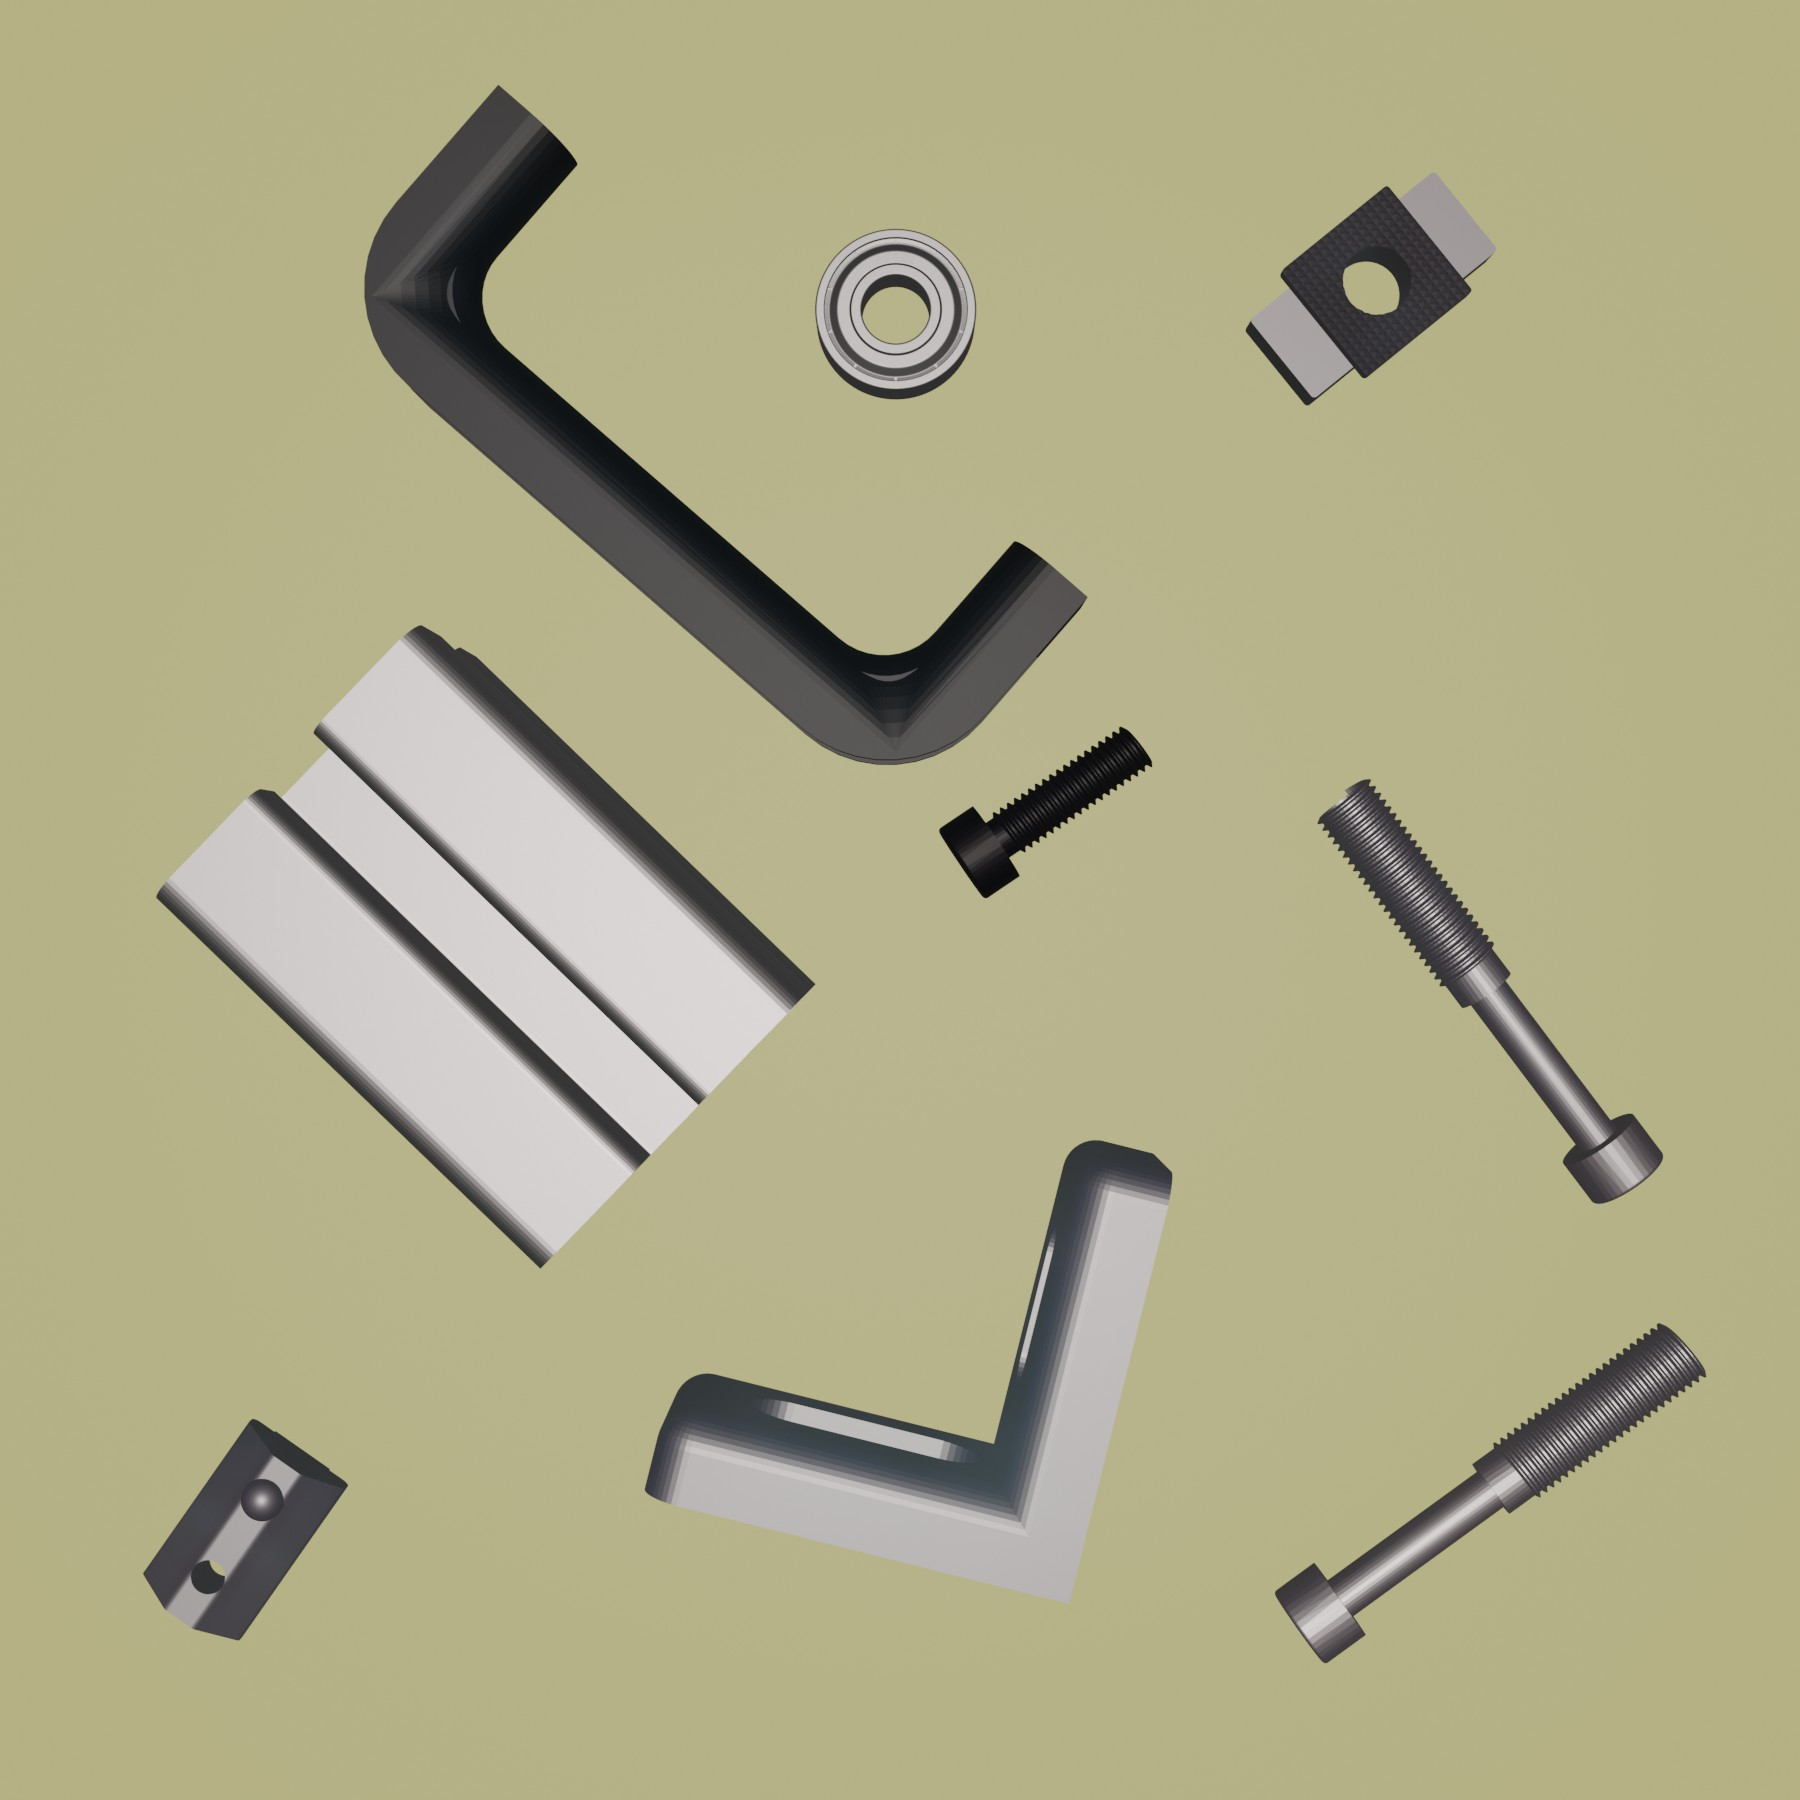Aluminium Extension: (152, 621, 816, 1273)
Ball Bearing: (811, 227, 977, 401)
Multiwinkel: (645, 1136, 1175, 1607)
Pull Handle: (361, 81, 1090, 766)
Shoulder Socket Head Cap Screw: (1274, 1319, 1709, 1668), (1317, 775, 1666, 1208)
Socket Head Cap Screw: (938, 722, 1155, 902)
T Nut Square: (1241, 168, 1500, 409)
T Spring Nut: (140, 1414, 349, 1642)
